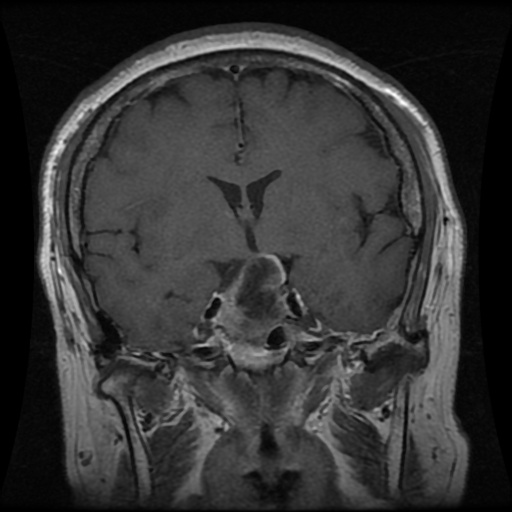pituitary: (211, 256, 293, 367)
